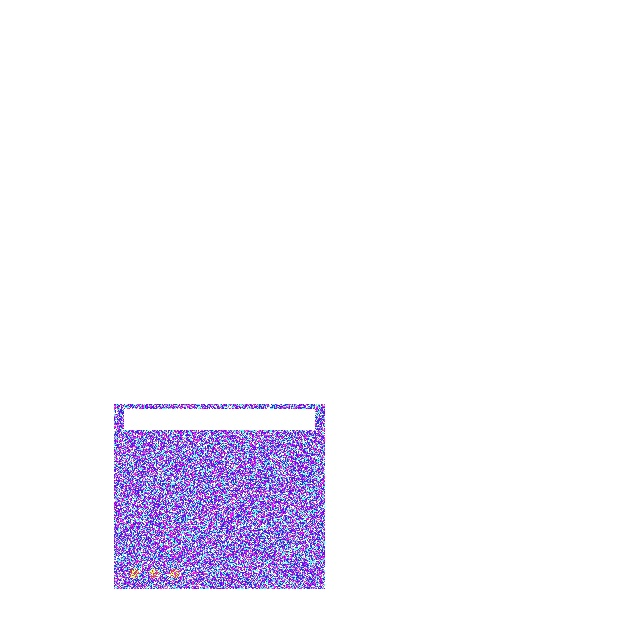Imprimante: (114, 404, 324, 588)
